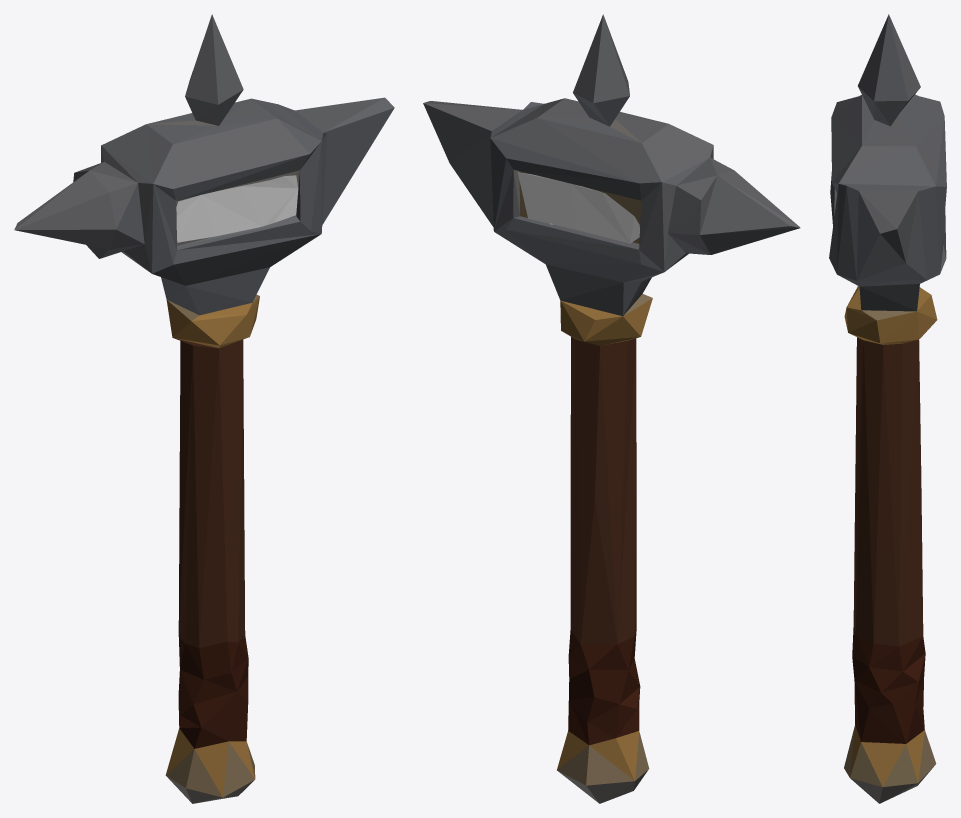
Rendered from aiwpn_hammer_lo.glb.
3 renders of one model, left to right at view 1: azimuth 30°, elevation 25°; view 2: azimuth 150°, elevation 25°; view 3: azimuth 270°, elevation 25°, orthographic.
Parts seen in each view (by area): view 1: ca_aiwpn_hammer_lo; view 2: ca_aiwpn_hammer_lo; view 3: ca_aiwpn_hammer_lo.
Part boxes in pixels (x1=…): ca_aiwpn_hammer_lo: x1=14, y1=14, x2=394, y2=803; ca_aiwpn_hammer_lo: x1=423, y1=14, x2=800, y2=803; ca_aiwpn_hammer_lo: x1=829, y1=14, x2=946, y2=803.
Bounding box in the file's own units: 0.872 × 1.73 × 0.2378.
